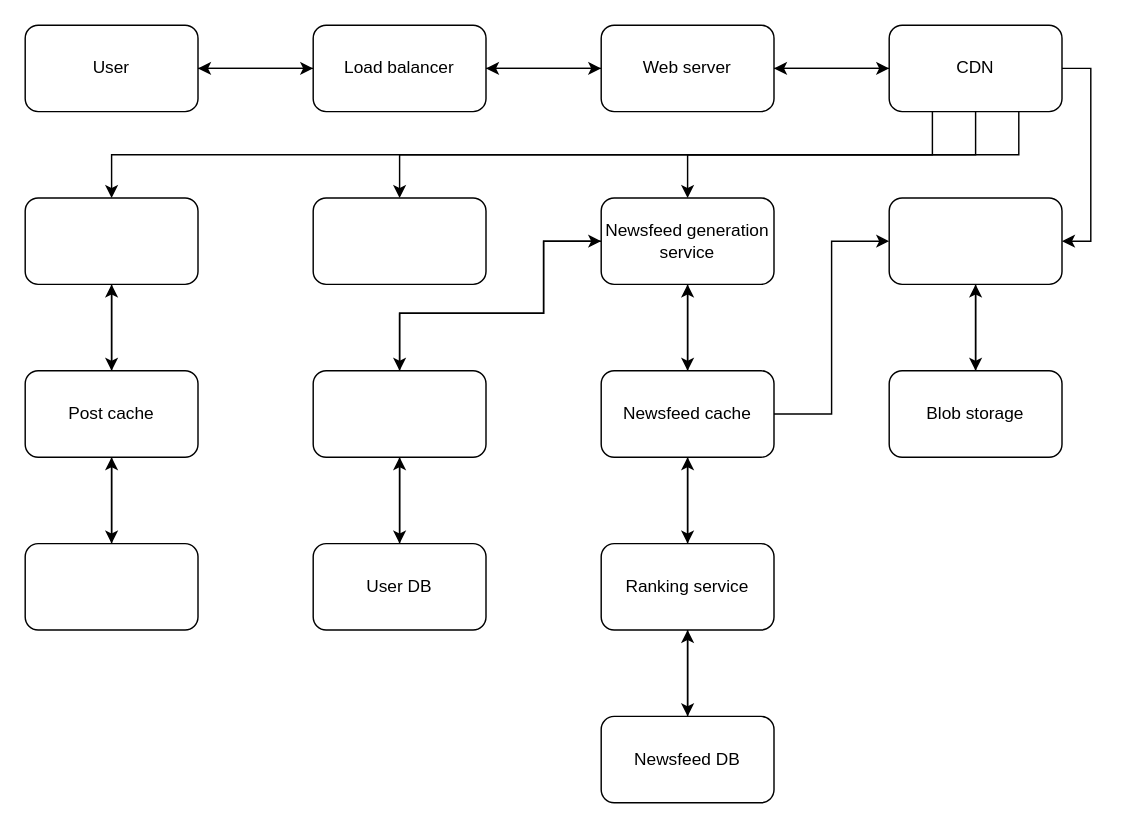
The diagram is 1128 pixels wide and 828 high, and some of its shapes have lost their labels. Each missing label, with the centre of its shape:
Newsfeed publishing service: point (975, 240)
Notification service: point (399, 240)
Post DB: point (111, 586)
Post service: point (111, 240)
User cache: point (399, 413)
